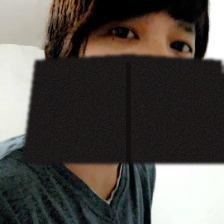Cadar_Niqab: (22, 0, 224, 163)
